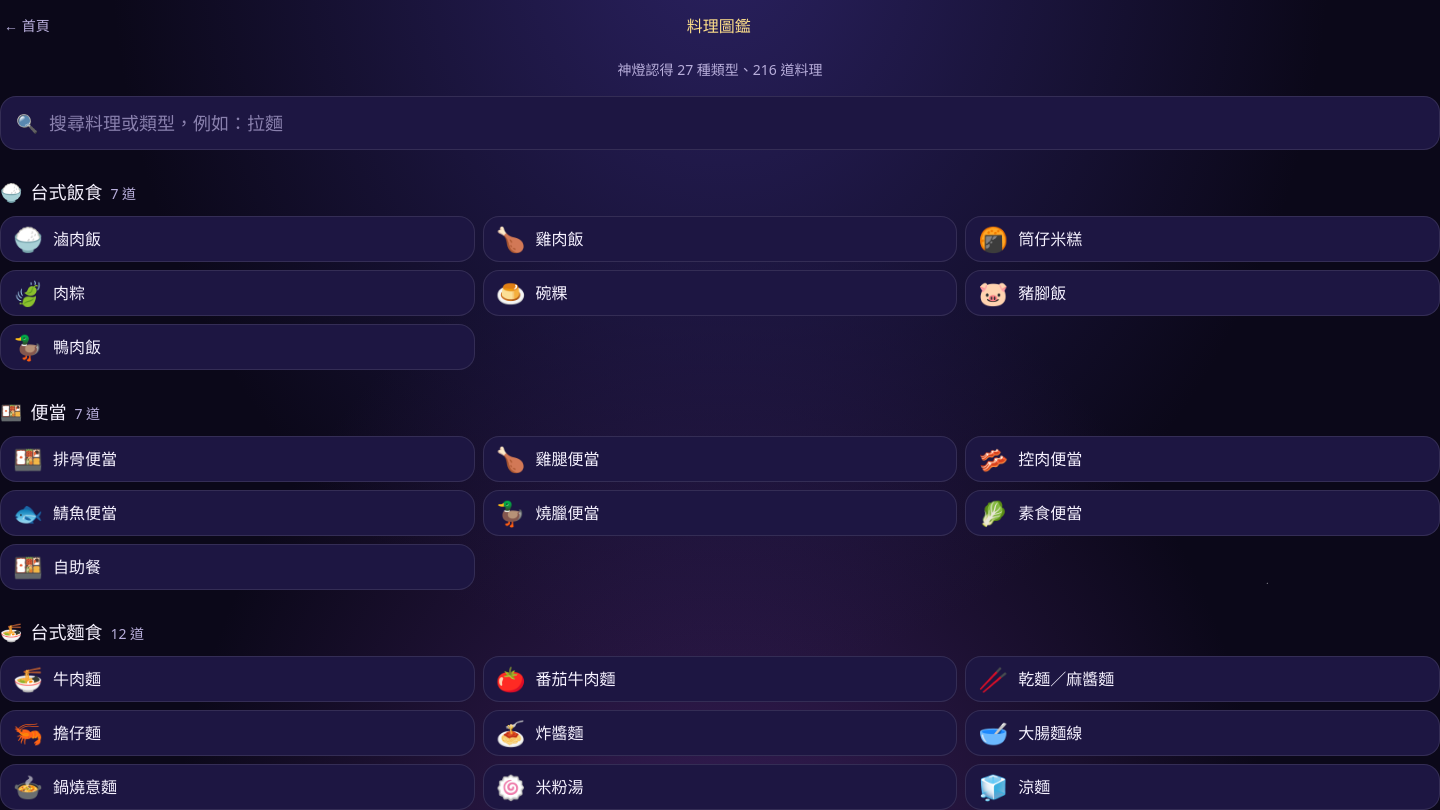
it: 料理圖鑑頁 › 搜尋不到時顯示提示
Type "不存在的料理" into the search field labelled "🔍" at (720, 123), box left=0, top=96, right=1439, bottom=150
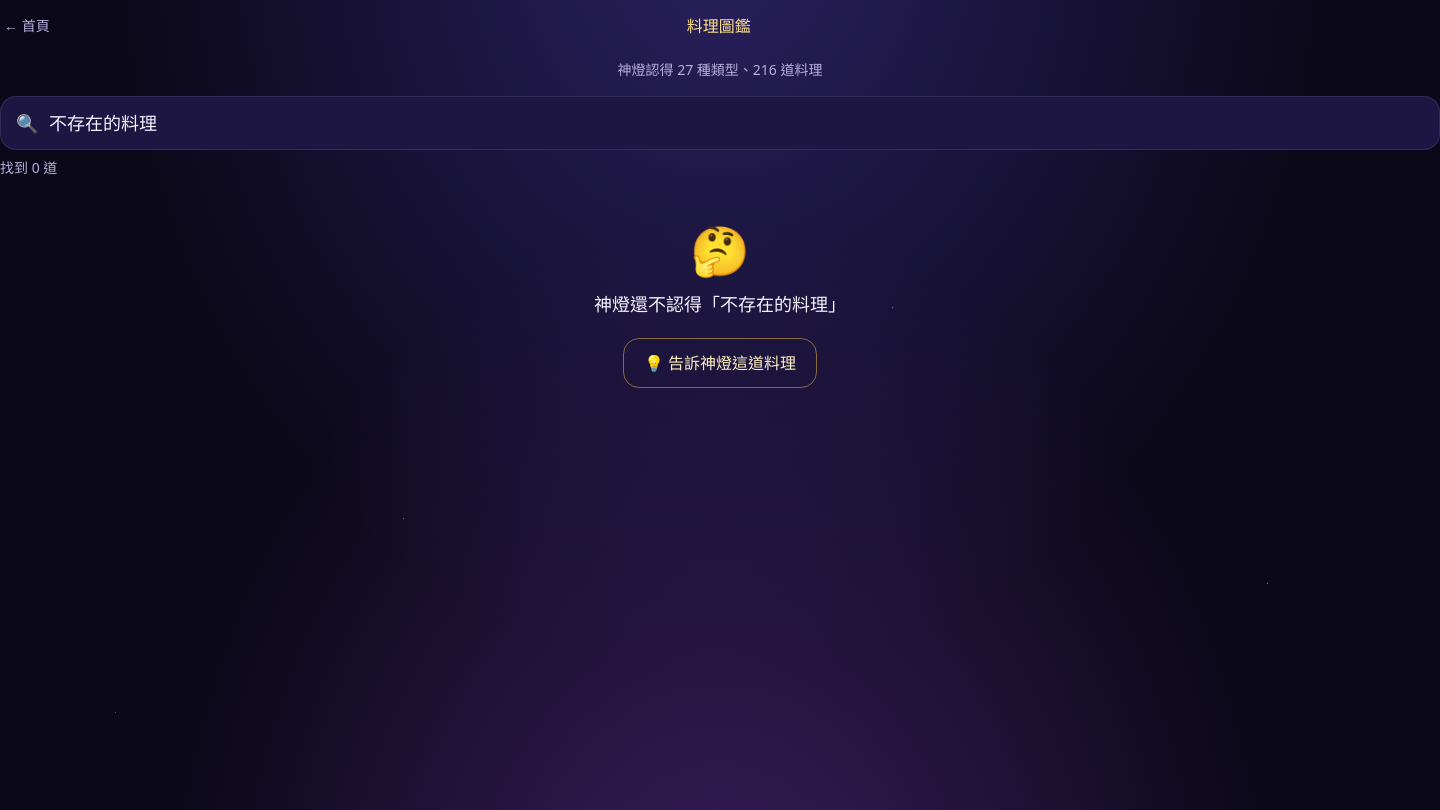
Now the text "神燈還不認得" is shown, box left=594, top=292, right=846, bottom=316
